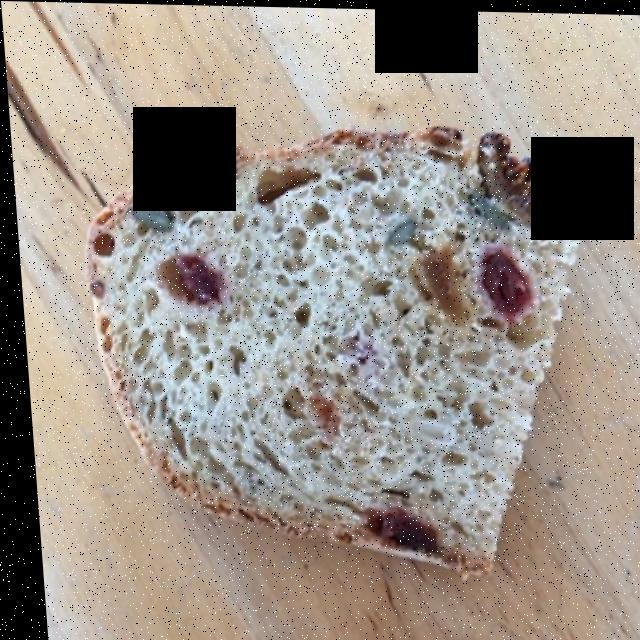bread-fruit: (76, 122, 620, 571)
